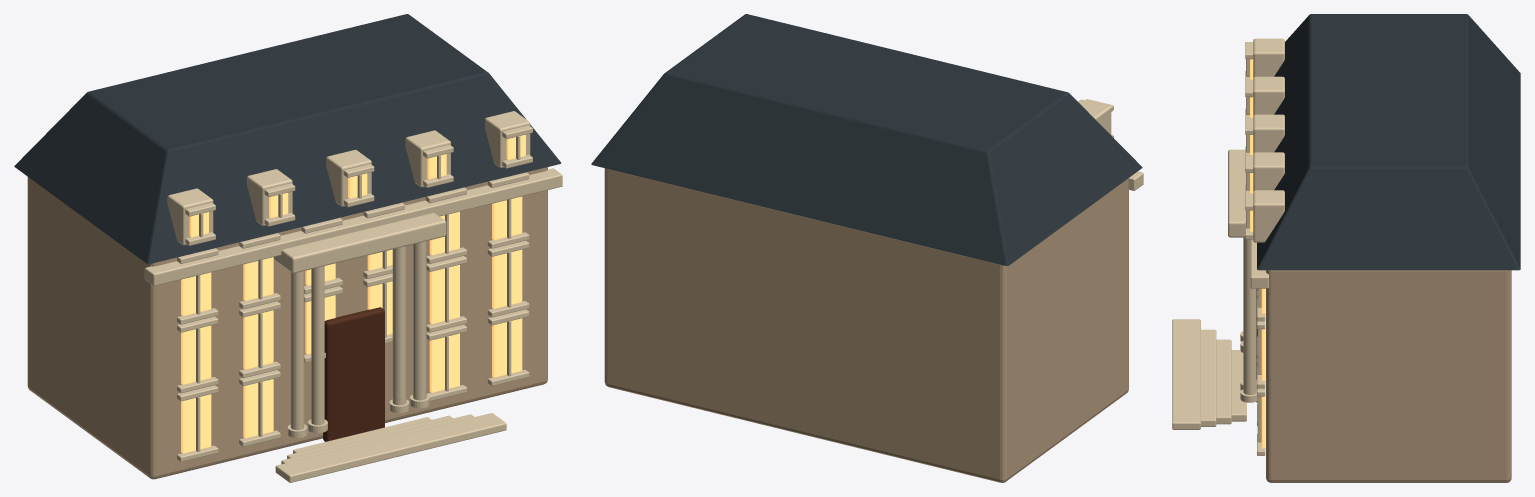
File: paris-library.glb
3 views of the same model, side by side, from view 1: azimuth 30°, elevation 25°; view 2: azimuth 150°, elevation 25°; view 3: azimuth 270°, elevation 25° (orthographic). The views are drawn at different scales.
Visible parts, largest first — view 1: Optimized Paris landmark; view 2: Optimized Paris landmark; view 3: Optimized Paris landmark.
Part boxes in pixels (bbox=[...]): Optimized Paris landmark: bbox=[14, 14, 562, 482]; Optimized Paris landmark: bbox=[591, 14, 1143, 482]; Optimized Paris landmark: bbox=[1172, 14, 1520, 482].
Bounding box in the file's own units: 9.15 × 6.45 × 6.81.
